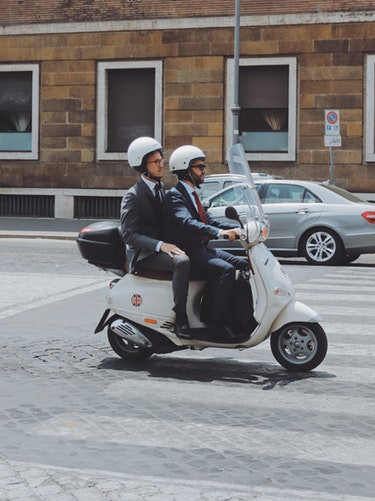helmet: (121, 130, 170, 172), (165, 146, 205, 172)
